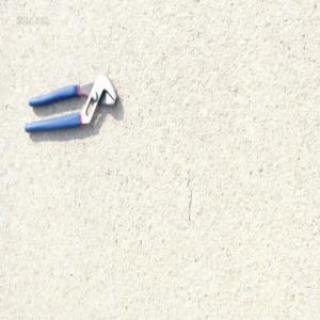Pliertrack_idkeyframe: (20, 72, 116, 134)
